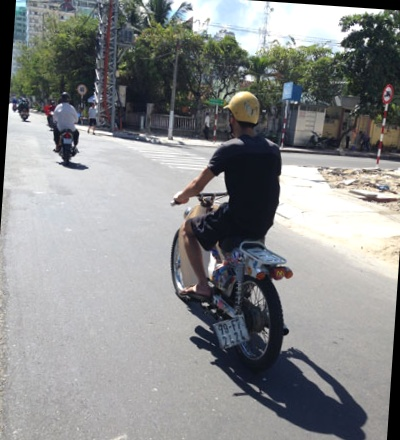Bien-so: (224, 299, 264, 336), (63, 135, 76, 146)
